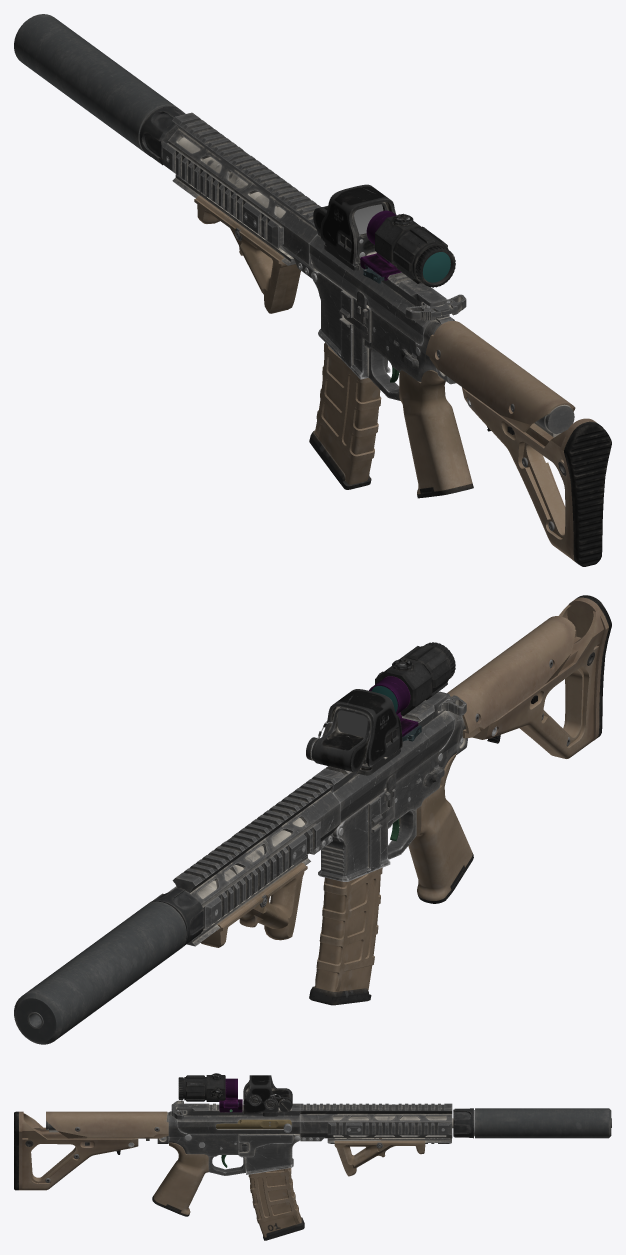
The picture shows the model from 3 angles, top to bottom: view 1: azimuth 30°, elevation 25°; view 2: azimuth 150°, elevation 25°; view 3: azimuth 270°, elevation 25°; orthographic projection. The views are drawn at different scales.
Parts seen in each view (by area): view 1: Suppressor_low, Stock_low, Rail_low, Frame_low, Mag_low, Grip_low, Stock.002_low, Buttpad_low, Upper_low, Handle_low, Plank.001_low, EOTech_Sight_Outer_Shell_low (+6 smaller); view 2: Suppressor_low, Stock.002_low, Mag_low, Frame_low, Rail_low, Stock_low, Grip_low, Upper_low, Handle_low, Plank.001_low, EOTech_Sight_Outer_Shell_low, Scope.001_low (+6 smaller); view 3: Suppressor_low, Frame_low, Rail_low, Stock.002_low, Stock_low, Mag_low, Upper_low, Grip_low, Plank.001_low, Handle_low, EOTech_Sight_Outer_Shell_low, Scope.001_low (+7 smaller).
Boxes of the visible parts, x1,y1,x2,y2 form: Suppressor_low: [14, 14, 185, 165]; Stock_low: [425, 321, 575, 432]; Rail_low: [168, 112, 321, 278]; Frame_low: [312, 270, 453, 400]; Mag_low: [309, 342, 381, 489]; Grip_low: [399, 370, 473, 498]; Stock.002_low: [462, 387, 596, 561]; Buttpad_low: [564, 421, 611, 566]; Upper_low: [309, 223, 454, 344]; Handle_low: [194, 195, 300, 313]; Plank.001_low: [162, 141, 283, 248]; EOTech_Sight_Outer_Shell_low: [320, 184, 396, 265]; Suppressor_low: [14, 888, 204, 1044]; Stock.002_low: [473, 597, 608, 758]; Mag_low: [309, 868, 382, 1005]; Frame_low: [318, 711, 462, 881]; Rail_low: [172, 774, 340, 905]; Stock_low: [447, 616, 575, 738]; Grip_low: [399, 753, 473, 903]; Upper_low: [316, 692, 454, 836]; Handle_low: [200, 863, 307, 947]; Plank.001_low: [168, 821, 320, 929]; EOTech_Sight_Outer_Shell_low: [322, 689, 402, 766]; Scope.001_low: [375, 644, 451, 715]; Suppressor_low: [453, 1108, 611, 1138]; Frame_low: [168, 1111, 300, 1175]; Rail_low: [300, 1103, 452, 1141]; Stock.002_low: [19, 1111, 138, 1190]; Stock_low: [46, 1111, 168, 1140]; Mag_low: [248, 1168, 304, 1240]; Upper_low: [177, 1103, 300, 1135]; Grip_low: [152, 1142, 208, 1216]; Plank.001_low: [327, 1122, 451, 1135]; Handle_low: [334, 1138, 425, 1176]; EOTech_Sight_Outer_Shell_low: [243, 1075, 278, 1113]; Scope.001_low: [184, 1075, 225, 1101].
Bounding box in the file's own units: 1.35 × 6.82 × 22.62.
Materials: 2 (2 with a texture image).
